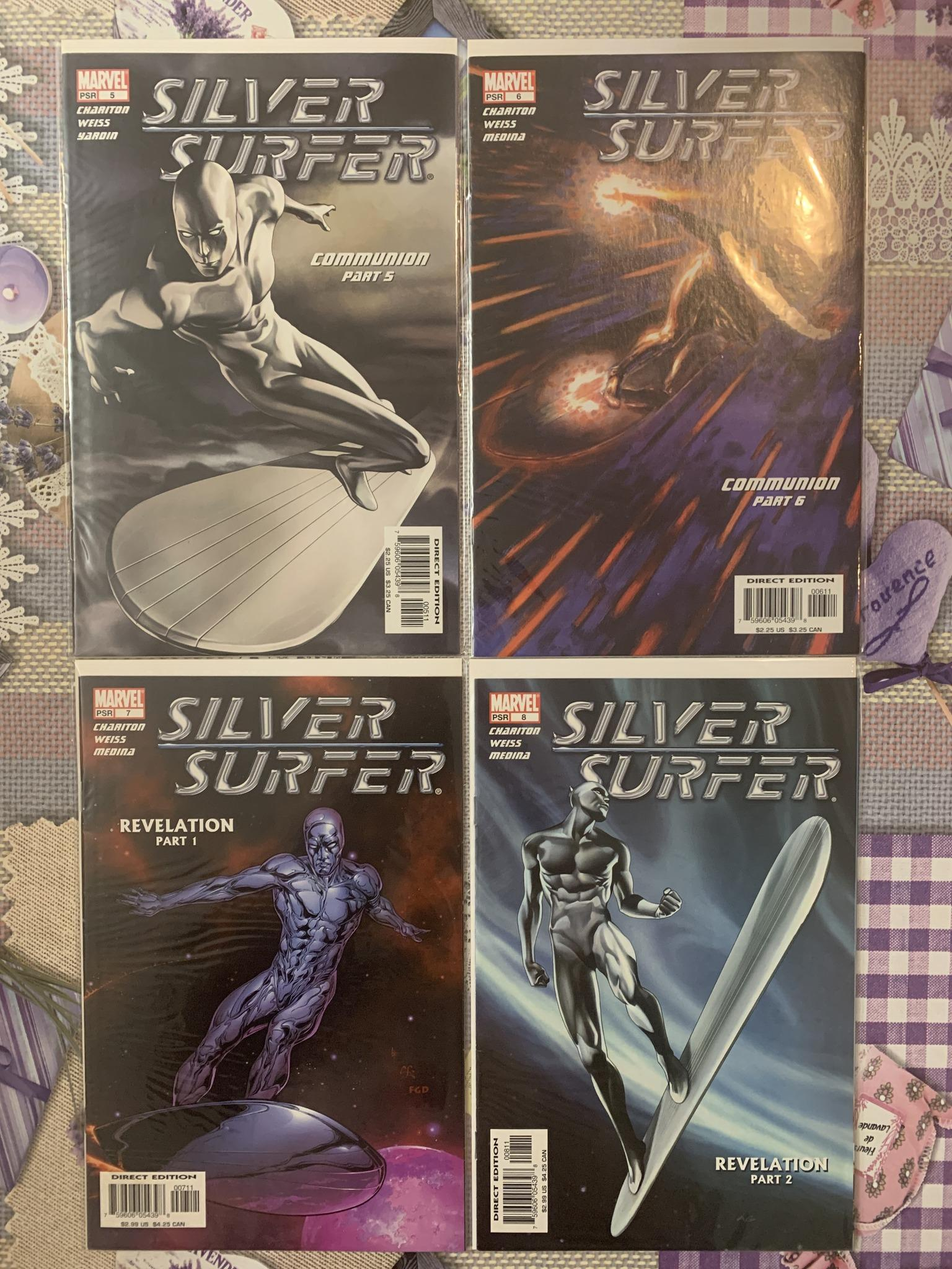comic: (467, 38, 870, 657), (62, 38, 461, 657), (80, 657, 467, 1256), (471, 658, 858, 1251)
